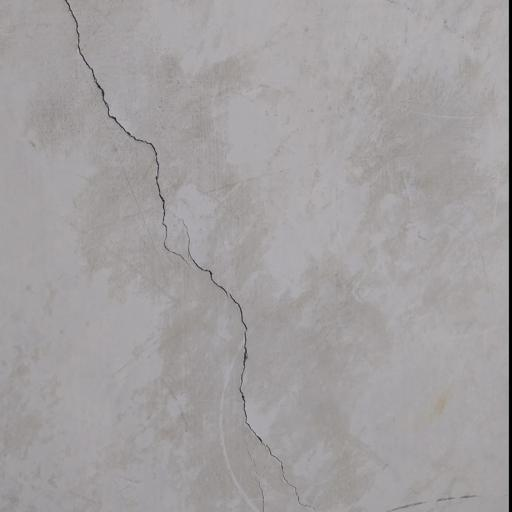minor_crack: (52, 0, 314, 511)
